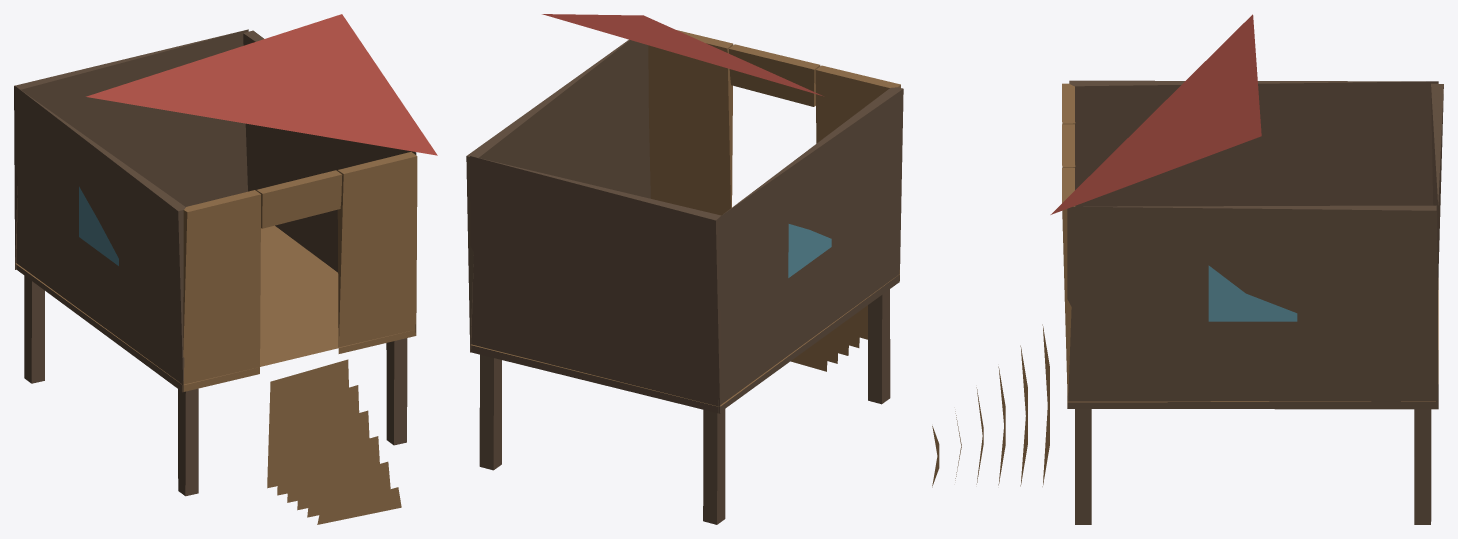
Rendered from harbor-stilt-house.lod2.glb.
3 views of the same model, side by side, from view 1: azimuth 30°, elevation 25°; view 2: azimuth 150°, elevation 25°; view 3: azimuth 270°, elevation 25° (orthographic). The views are drawn at different scales.
Parts seen in each view (by area): view 1: harbor-stilt-house__body, harbor-stilt-house__front-wall, harbor-stilt-house__roof; view 2: harbor-stilt-house__body, harbor-stilt-house__front-wall, harbor-stilt-house__roof; view 3: harbor-stilt-house__body, harbor-stilt-house__roof, harbor-stilt-house__front-wall.
Part boxes in pixels (<box>): harbor-stilt-house__body: <box>14,29,416,524</box>; harbor-stilt-house__front-wall: <box>182,152,417,391</box>; harbor-stilt-house__roof: <box>86,14,437,155</box>; harbor-stilt-house__body: <box>466,39,903,524</box>; harbor-stilt-house__front-wall: <box>648,30,900,282</box>; harbor-stilt-house__roof: <box>542,14,823,96</box>; harbor-stilt-house__body: <box>932,80,1443,524</box>; harbor-stilt-house__roof: <box>1050,14,1261,214</box>; harbor-stilt-house__front-wall: <box>1062,83,1075,407</box>.
Bounding box in the file's own units: 4.5 × 5.98 × 6.94.
